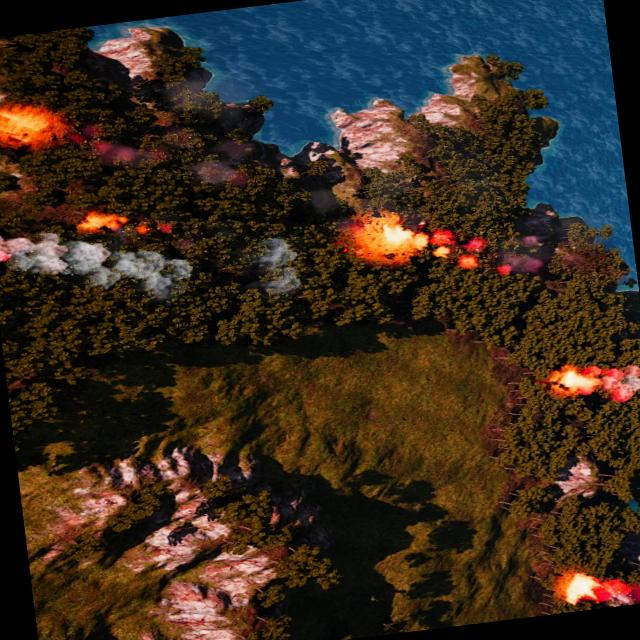fire: (0, 101, 51, 148), (370, 215, 428, 256), (555, 362, 606, 399), (72, 206, 126, 234), (560, 570, 602, 603)
smoke: (0, 215, 196, 328), (425, 212, 542, 284), (245, 234, 302, 304), (589, 362, 640, 408), (602, 571, 640, 607)
